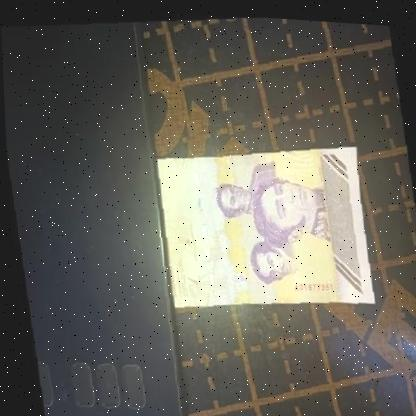two_hundred-front-vef: (153, 130, 374, 318)
